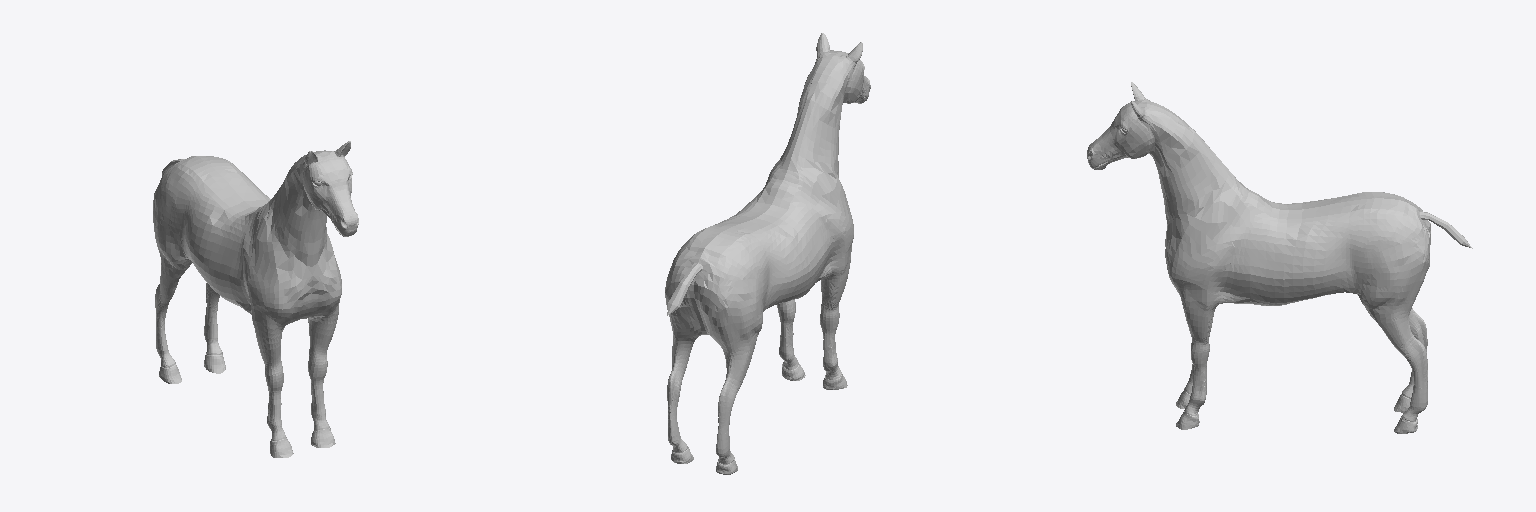
File: horse.obj
3 views of the same model, side by side, from view 1: azimuth 30°, elevation 25°; view 2: azimuth 150°, elevation 25°; view 3: azimuth 270°, elevation 25° (orthographic).
Visible parts, largest first — view 1: cheval_Untitled; view 2: cheval_Untitled; view 3: cheval_Untitled.
Boxes of the visible parts, <box> form: cheval_Untitled: <box>153,141,358,457</box>; cheval_Untitled: <box>665,33,870,474</box>; cheval_Untitled: <box>1087,82,1472,433</box>.
Bounding box in the file's own units: 2.14 × 7.23 × 7.68.